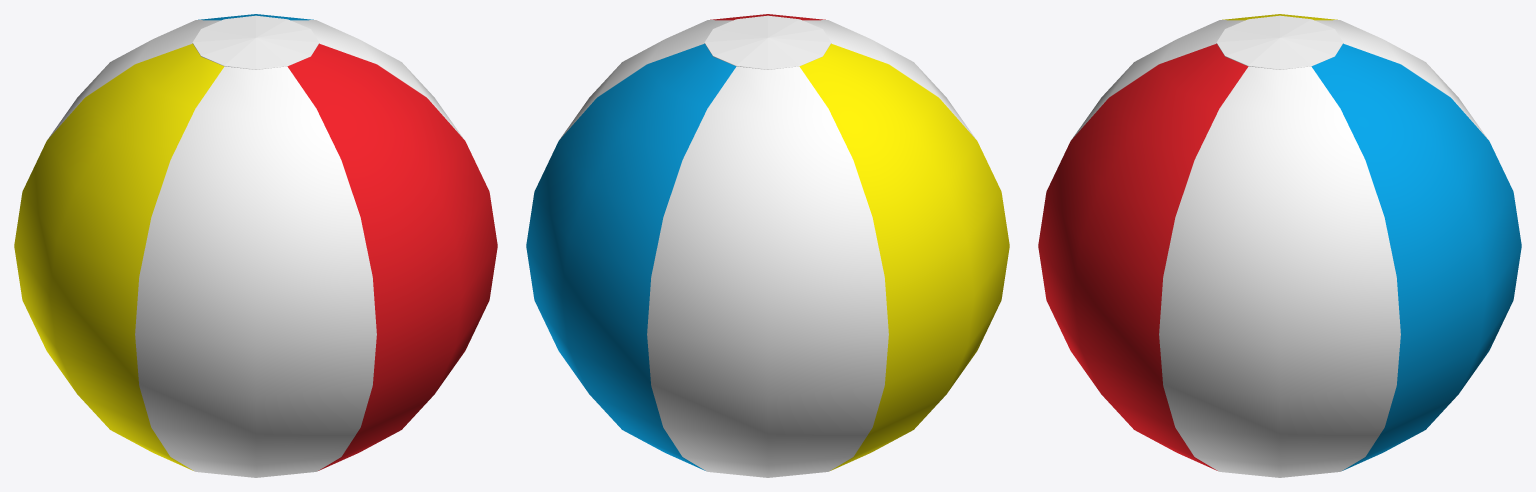
Rendered from BeachBall.fbx.
3 views of the same model, side by side, from view 1: azimuth 30°, elevation 25°; view 2: azimuth 150°, elevation 25°; view 3: azimuth 270°, elevation 25° (orthographic).
Visible parts, largest first — view 1: Sphere; view 2: Sphere; view 3: Sphere.
Part boxes in pixels (x1,y1,x2,y2): Sphere: [14, 14, 497, 477]; Sphere: [526, 14, 1009, 477]; Sphere: [1038, 14, 1521, 477].
Bounding box in the file's own units: 114 × 110 × 116.
